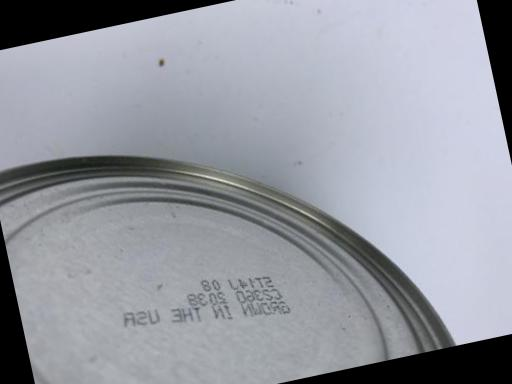metal: (0, 68, 488, 384)
